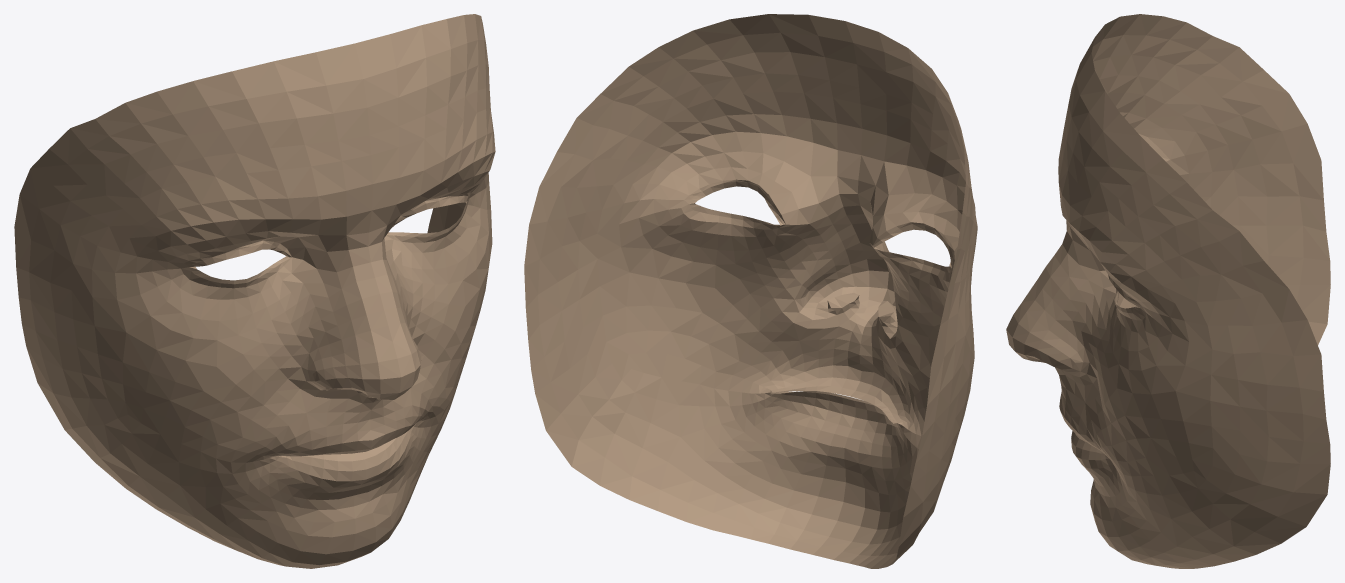
File: bsFACE.fbx
The picture shows the model from 3 angles, left to right: view 1: azimuth 30°, elevation 25°; view 2: azimuth 150°, elevation 25°; view 3: azimuth 270°, elevation 25°; orthographic projection. The views are drawn at different scales.
Parts seen in each view (by area): view 1: head_geo; view 2: head_geo; view 3: head_geo.
Part boxes in pixels (bbox=[...]): head_geo: bbox=[14, 14, 495, 568]; head_geo: bbox=[524, 14, 977, 568]; head_geo: bbox=[1006, 14, 1330, 568].
Size of the model in its own units: 15.55 by 18.44 by 10.88.
